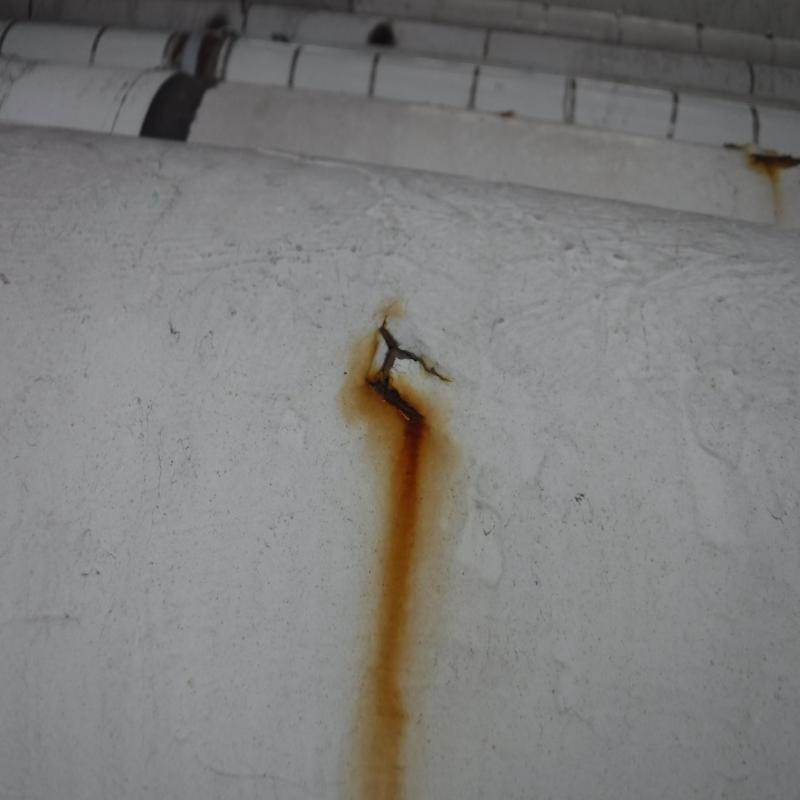corrosion: (381, 315, 416, 505)
